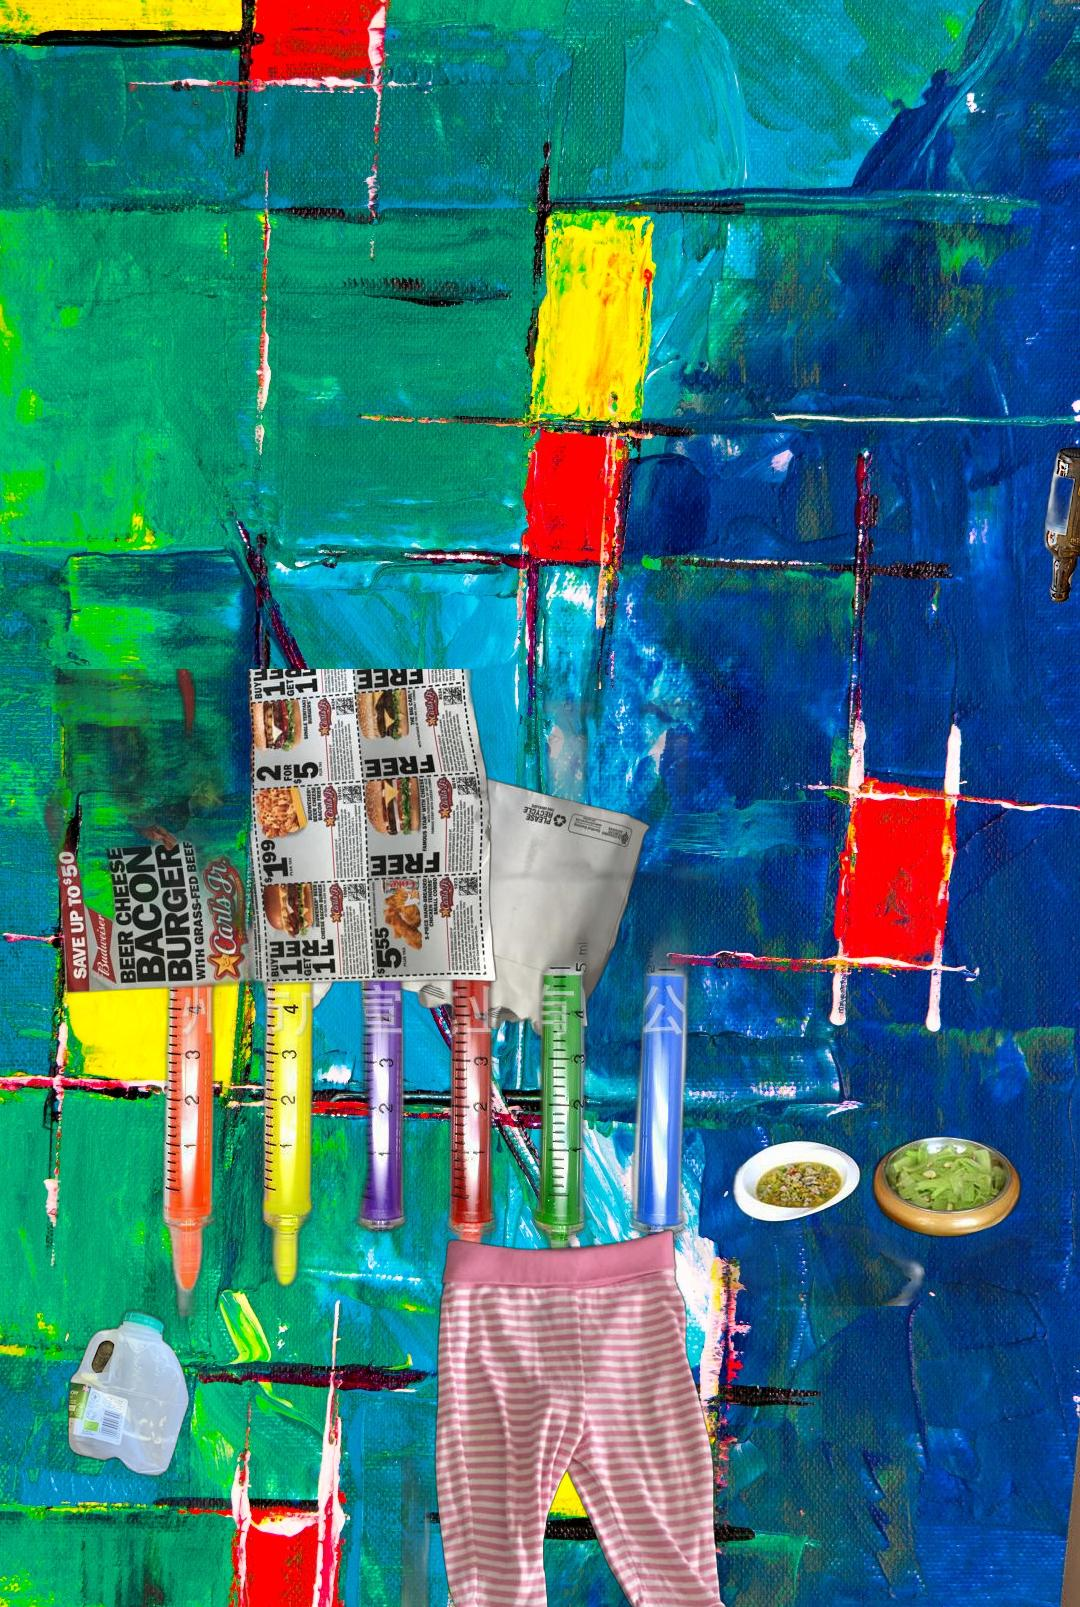biological: (664, 1052, 1080, 1306)
clothes: (401, 1226, 770, 1607)
glass: (1038, 58, 1080, 653)
paper: (39, 669, 501, 997), (256, 721, 655, 1057)
penholder: (146, 627, 726, 1316)
plastic-bottles: (63, 1304, 194, 1483)
trashbox-cardboard: (1041, 1351, 1080, 1607)
